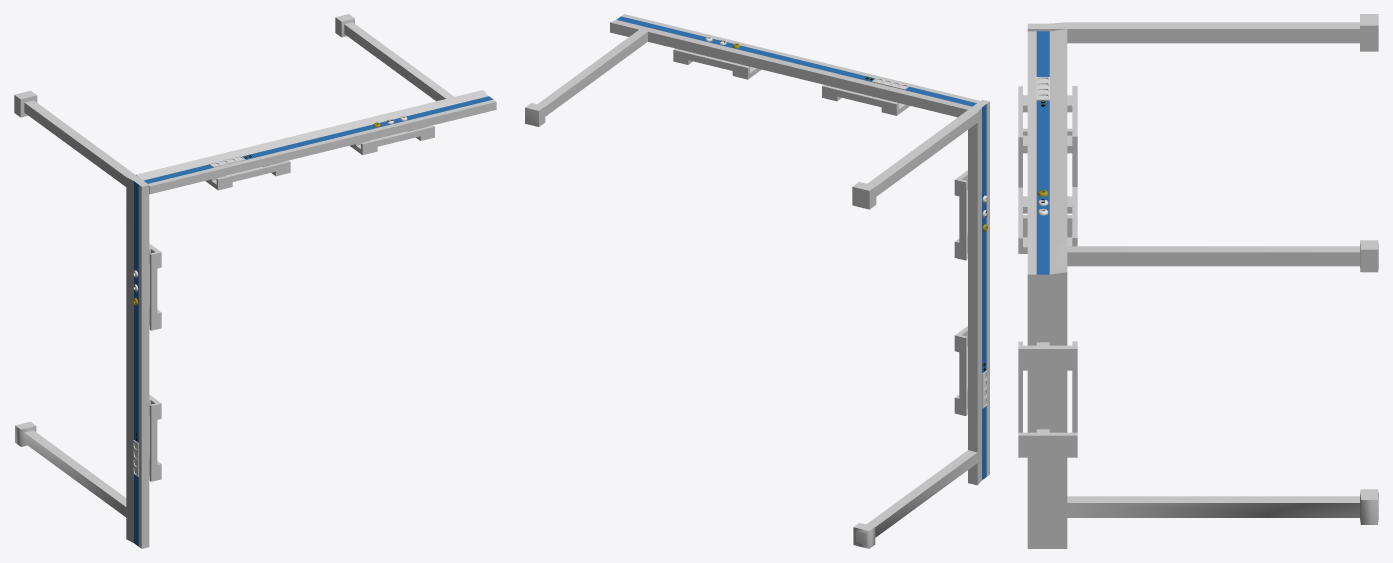
File: КРП.fbx
The picture shows the model from 3 angles, left to right: view 1: azimuth 30°, elevation 25°; view 2: azimuth 150°, elevation 25°; view 3: azimuth 270°, elevation 25°; orthographic projection. The views are drawn at different scales.
Visible parts, largest first — view 1: Cube; view 2: Cube; view 3: Cube.
Boxes of the visible parts, <box> form: Cube: <box>14,14,496,548</box>; Cube: <box>525,14,989,548</box>; Cube: <box>1018,14,1378,548</box>.
Bounding box in the file's own units: 332 × 323 × 201.
